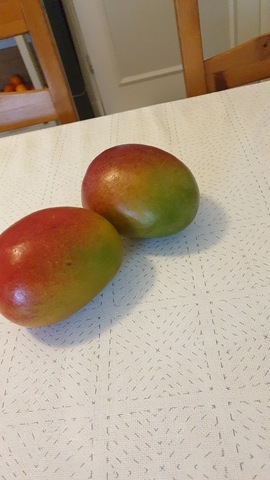Mango: (82, 144, 199, 239)
